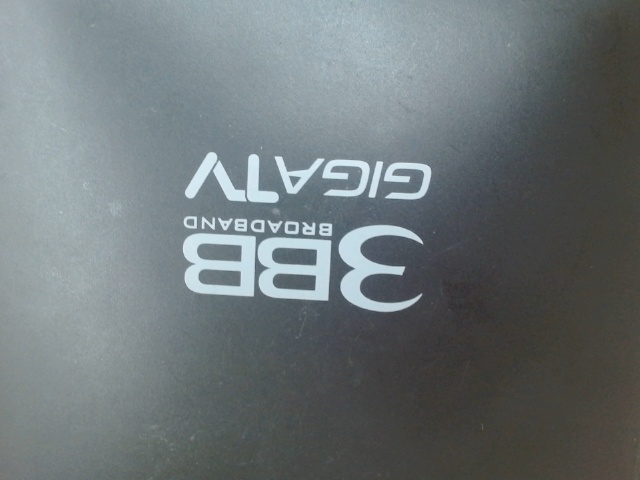AG_3BB: (168, 139, 440, 329)
